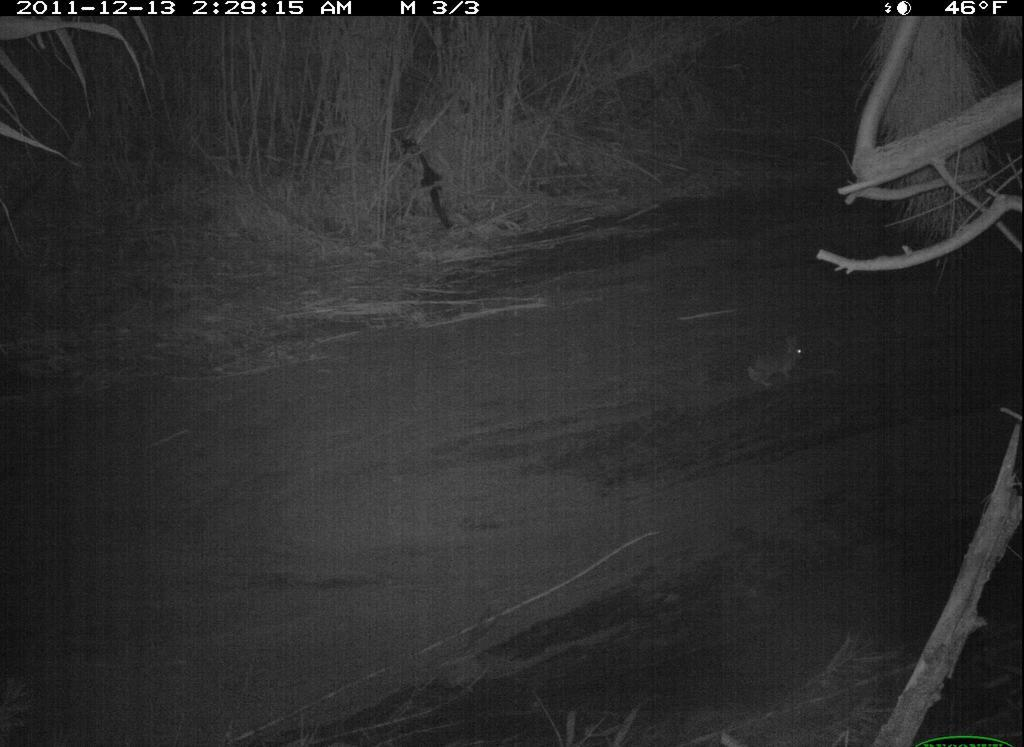rabbit: (738, 319, 822, 415)
